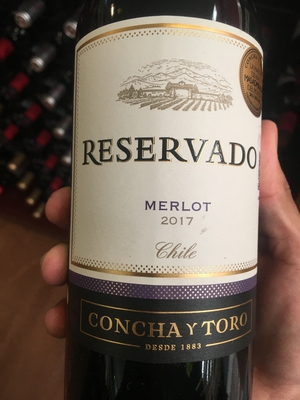reservado merlot: (62, 12, 268, 400)
